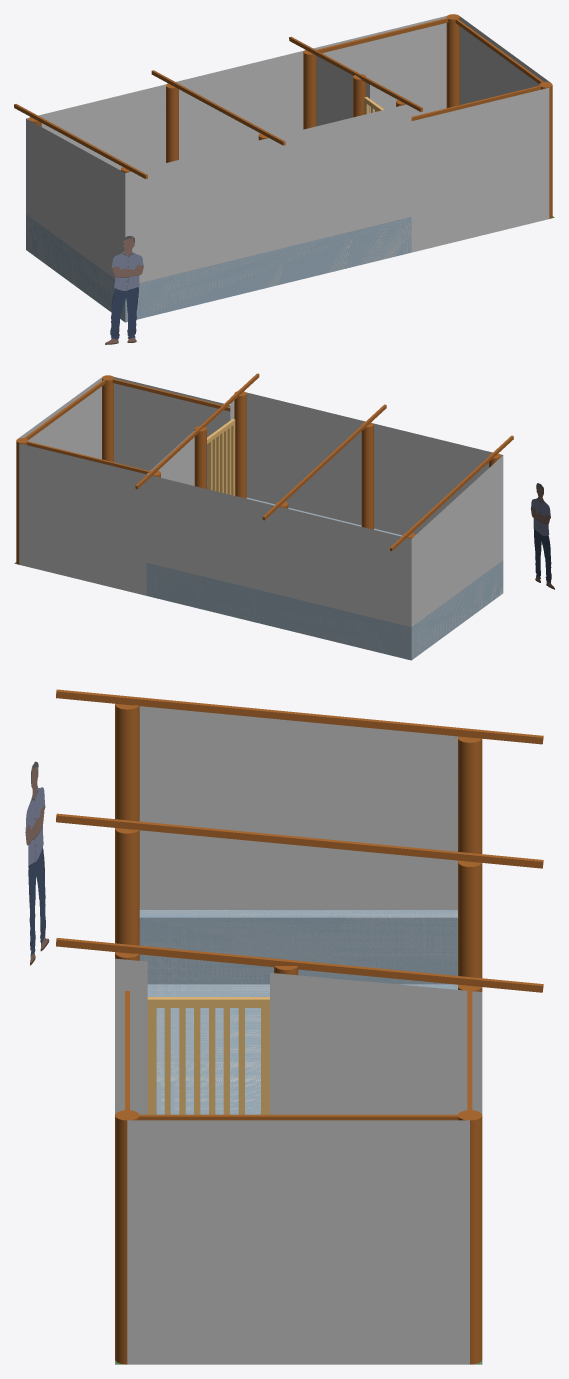
The model's file is galinherio.obj.
The picture shows the model from 3 angles, top to bottom: view 1: azimuth 30°, elevation 25°; view 2: azimuth 150°, elevation 25°; view 3: azimuth 270°, elevation 25°; orthographic projection. The views are drawn at different scales.
Parts seen in each view (by area): view 1: Mesh43 Group18 Model, Mesh61 Model, Mesh49 Group21 Model, Mesh41 Group17 Model, Mesh39 Group16 Model, Mesh51 Group22 Model, Mesh53 Niraj1 Model, Mesh45 Group19 Model, Mesh37 Group15 Model, Mesh10 Group4 Model, Mesh7 Group3 Model, Mesh1 Group1 Model (+5 smaller); view 2: Mesh41 Group17 Model, Mesh61 Model, Mesh43 Group18 Model, Mesh39 Group16 Model, Mesh49 Group21 Model, Mesh51 Group22 Model, Mesh16 Group6 Model, Mesh37 Group15 Model, Mesh53 Niraj1 Model, Mesh22 Group9 Group7 Model, Mesh28 Group11 Group7 Model, Mesh45 Group19 Model (+6 smaller); view 3: Mesh61 Model, Mesh51 Group22 Model, Mesh45 Group19 Model, Mesh16 Group6 Model, Mesh31 Group12 Model, Mesh33 Group13 Model, Mesh35 Group14 Model, Mesh47 Group20 Model, Mesh37 Group15 Model, Mesh19 Group8 Group7 Model, Mesh10 Group4 Model, Mesh22 Group9 Group7 Model (+4 smaller).
Boxes of the visible parts, x1,y1,x2,y2 form: Mesh43 Group18 Model: (125, 104, 411, 282); Mesh61 Model: (26, 118, 554, 322); Mesh49 Group21 Model: (411, 88, 549, 252); Mesh41 Group17 Model: (26, 50, 303, 170); Mesh39 Group16 Model: (313, 16, 446, 116); Mesh51 Group22 Model: (459, 16, 550, 104); Mesh53 Niraj1 Model: (105, 236, 143, 344); Mesh45 Group19 Model: (316, 56, 369, 125); Mesh37 Group15 Model: (316, 15, 549, 120); Mesh10 Group4 Model: (446, 14, 459, 107); Mesh7 Group3 Model: (303, 50, 316, 129); Mesh1 Group1 Model: (166, 83, 178, 162); Mesh41 Group17 Model: (146, 474, 411, 627); Mesh61 Model: (14, 455, 503, 660); Mesh43 Group18 Model: (246, 392, 502, 535); Mesh39 Group16 Model: (19, 443, 146, 595); Mesh49 Group21 Model: (114, 377, 230, 489); Mesh51 Group22 Model: (18, 377, 101, 459); Mesh16 Group6 Model: (207, 419, 235, 495); Mesh37 Group15 Model: (18, 378, 230, 474); Mesh53 Niraj1 Model: (530, 483, 554, 589); Mesh22 Group9 Group7 Model: (361, 422, 373, 529); Mesh28 Group11 Group7 Model: (234, 391, 246, 498); Mesh45 Group19 Model: (147, 430, 194, 485); Mesh61 Model: (115, 706, 482, 1364); Mesh51 Group22 Model: (127, 1120, 469, 1364); Mesh45 Group19 Model: (270, 972, 482, 1114); Mesh16 Group6 Model: (147, 997, 269, 1114); Mesh31 Group12 Model: (56, 689, 543, 744); Mesh33 Group13 Model: (56, 813, 543, 868); Mesh35 Group14 Model: (56, 938, 543, 992); Mesh47 Group20 Model: (115, 958, 147, 1114); Mesh37 Group15 Model: (116, 987, 475, 1120); Mesh19 Group8 Group7 Model: (115, 1110, 139, 1364); Mesh10 Group4 Model: (458, 1110, 482, 1364); Mesh22 Group9 Group7 Model: (115, 828, 139, 952).
Bounding box in the file's own units: 8.16 × 2.63 × 4.23.
